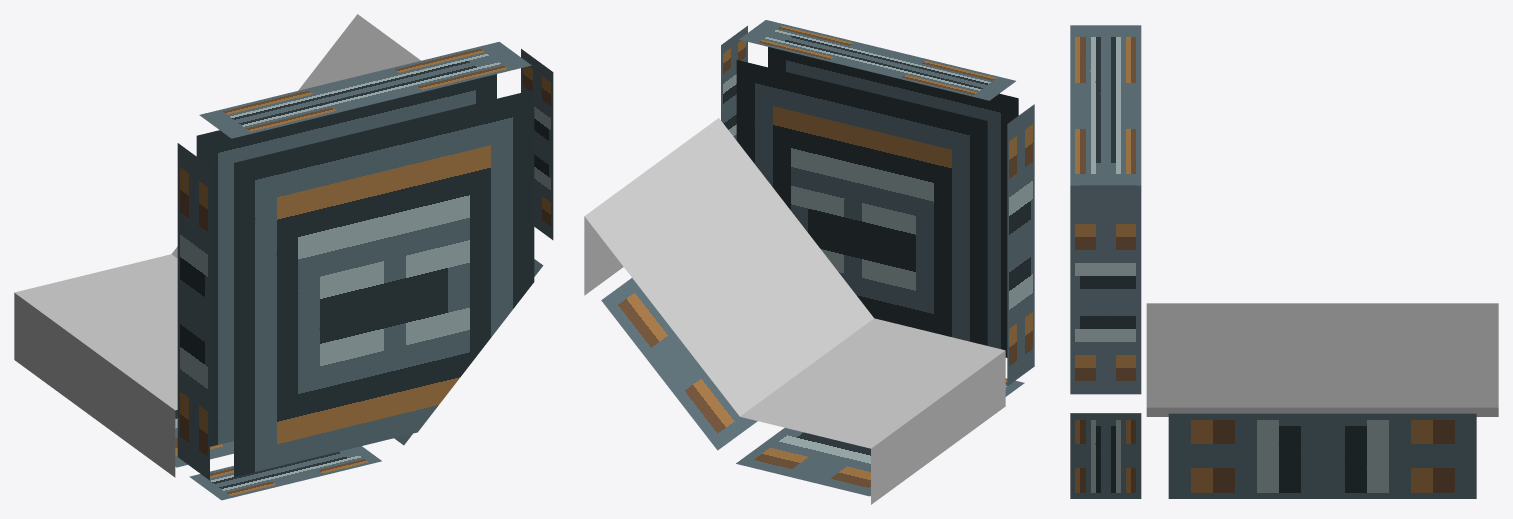
File: casing_d5_rear_x1_y-2.obj
3 views of the same model, side by side, from view 1: azimuth 30°, elevation 25°; view 2: azimuth 150°, elevation 25°; view 3: azimuth 270°, elevation 25° (orthographic). The views are drawn at different scales.
Visible parts, largest first — view 1: d5_rear_x1_y-2; view 2: d5_rear_x1_y-2; view 3: d5_rear_x1_y-2.
Boxes of the visible parts, x1,y1,x2,y2 form: d5_rear_x1_y-2: (14, 14, 553, 500); d5_rear_x1_y-2: (584, 20, 1034, 504); d5_rear_x1_y-2: (1070, 25, 1498, 498).
Bounding box in the file's own units: 1 × 1 × 1.
